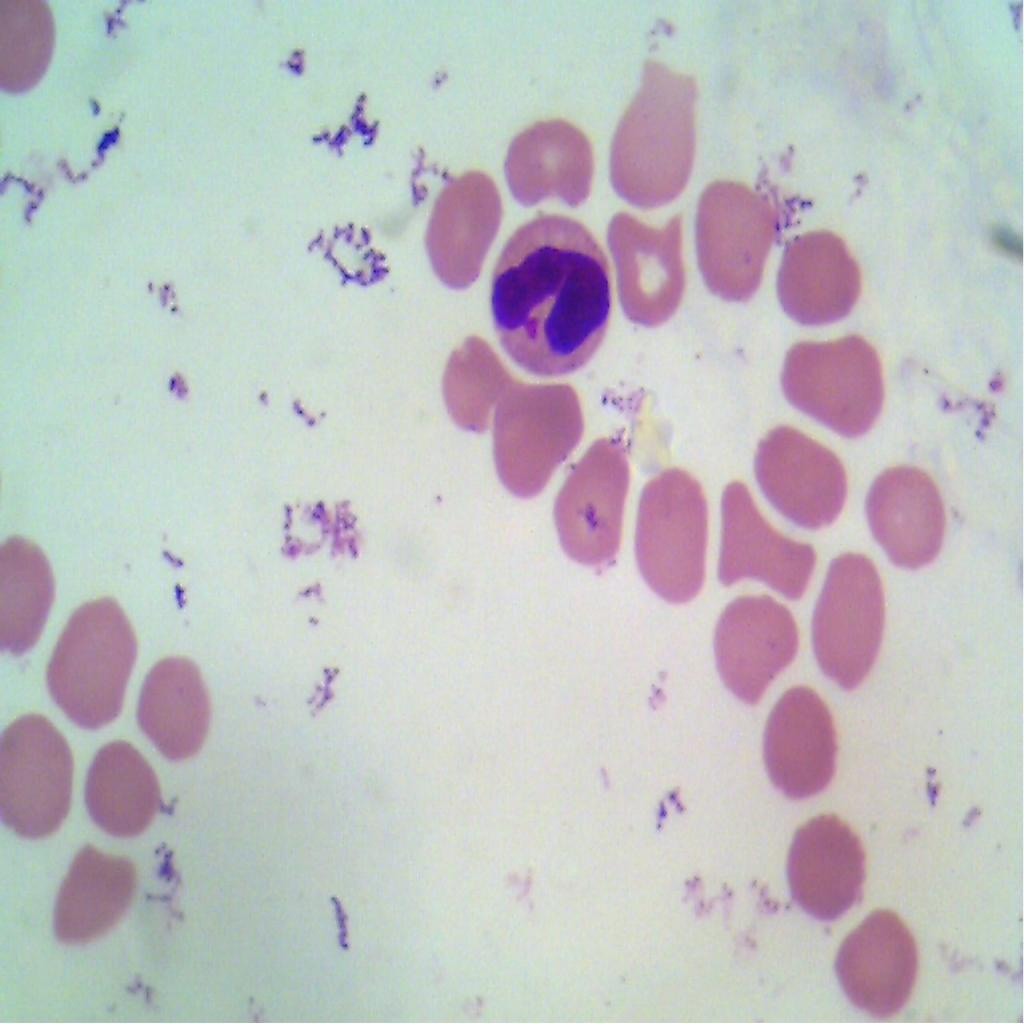Eritrosit: (629, 454, 718, 622), (821, 897, 939, 1023), (714, 470, 820, 607), (773, 318, 890, 438), (549, 426, 636, 584), (703, 581, 813, 705), (42, 589, 138, 724), (812, 542, 890, 704), (606, 58, 692, 204), (438, 321, 538, 442), (778, 795, 866, 932), (51, 842, 143, 970), (750, 423, 858, 528), (490, 382, 581, 503), (415, 164, 501, 292), (753, 671, 844, 791), (688, 172, 774, 298), (770, 215, 861, 334), (73, 725, 164, 842), (0, 714, 78, 844), (608, 208, 686, 338), (504, 112, 598, 214), (866, 455, 944, 575), (142, 652, 211, 770), (0, 530, 58, 660)
Neutrofil: (483, 210, 618, 384)
